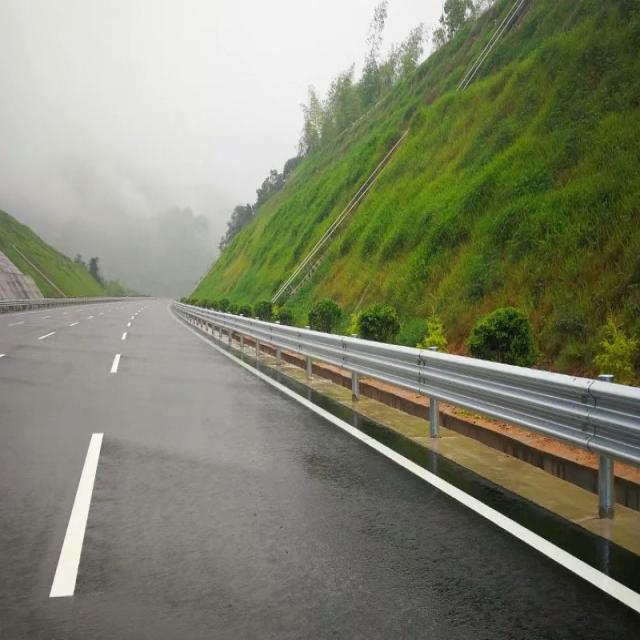Guard rail: (172, 302, 640, 465)
